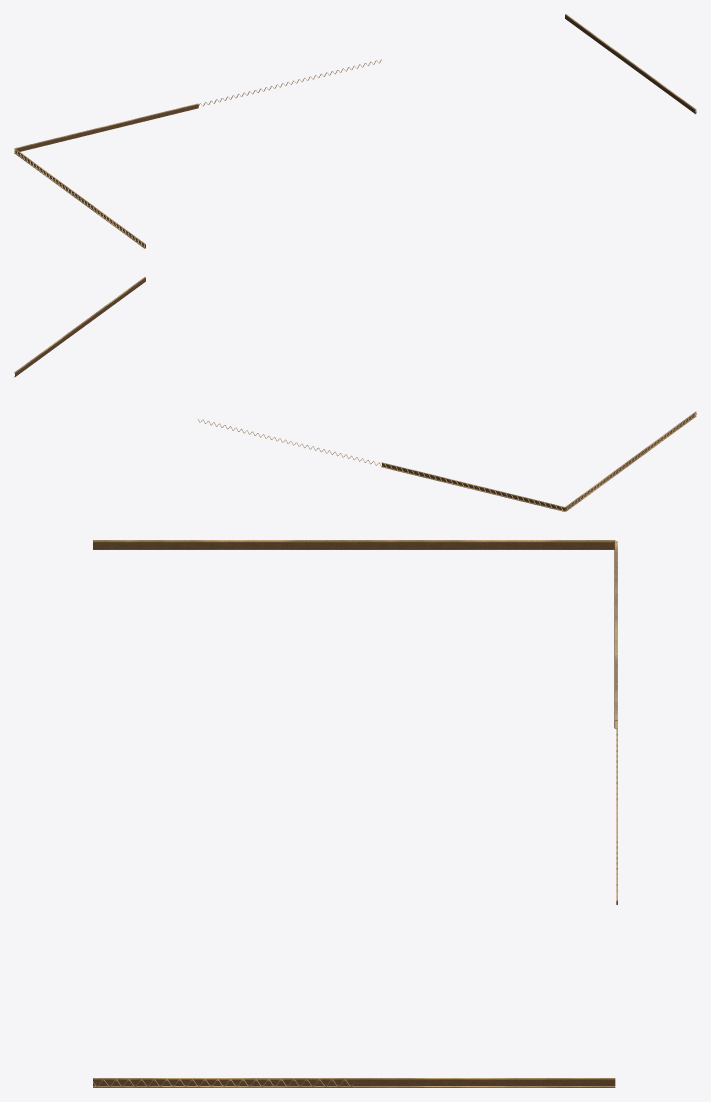
File: 14-corrugated-top-box-cut-edges-2.fbx
3 renders of one model, top to bottom at view 1: azimuth 30°, elevation 25°; view 2: azimuth 150°, elevation 25°; view 3: azimuth 270°, elevation 25°, orthographic. The views are drawn at different scales.
Visible parts, largest first — view 1: corrugated-top-box-cut-edges-2; view 2: corrugated-top-box-cut-edges-2; view 3: corrugated-top-box-cut-edges-2.
Boxes of the visible parts, <box> form: corrugated-top-box-cut-edges-2: <box>14,14,696,248</box>; corrugated-top-box-cut-edges-2: <box>14,277,696,511</box>; corrugated-top-box-cut-edges-2: <box>93,540,617,1087</box>.
Size of the model in its own units: 18072 by 140 by 7436.
Materials: 1 (1 with a texture image).
